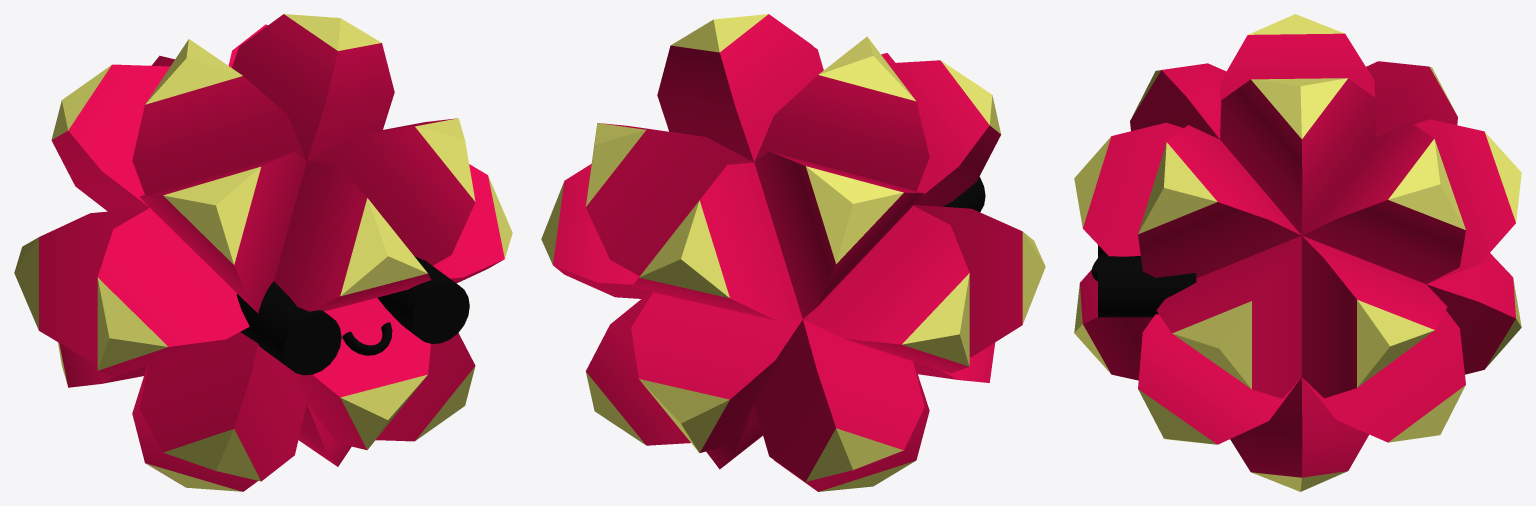
Rendered from RED2.fbx.
The picture shows the model from 3 angles, left to right: view 1: azimuth 30°, elevation 25°; view 2: azimuth 150°, elevation 25°; view 3: azimuth 270°, elevation 25°; orthographic projection. The views are drawn at different scales.
Parts seen in each view (by area): view 1: pPlatonic2; view 2: pPlatonic2; view 3: pPlatonic2.
Part boxes in pixels (x1,y1,x2,y2): pPlatonic2: (14,14,512,491); pPlatonic2: (541,14,1045,491); pPlatonic2: (1074,14,1521,491).
Size of the model in its own units: 9.16 by 9.06 by 9.05.
